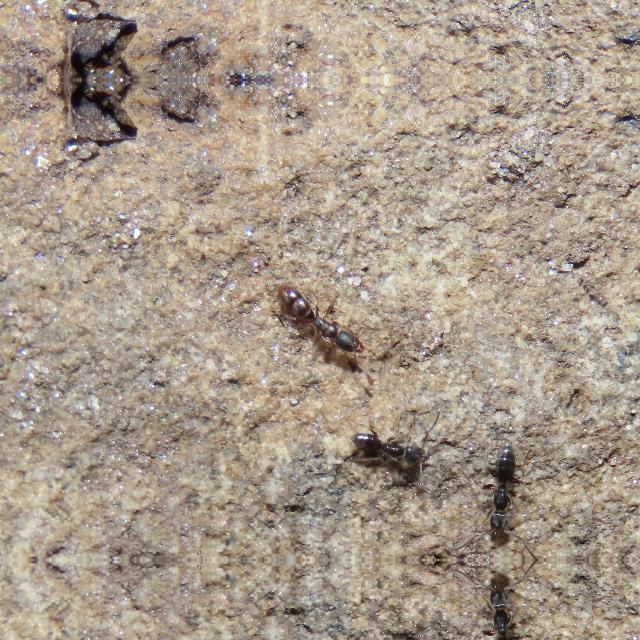Lasius: (344, 409, 432, 476)
Ponera: (442, 435, 560, 545), (276, 268, 384, 379), (442, 574, 558, 640)
